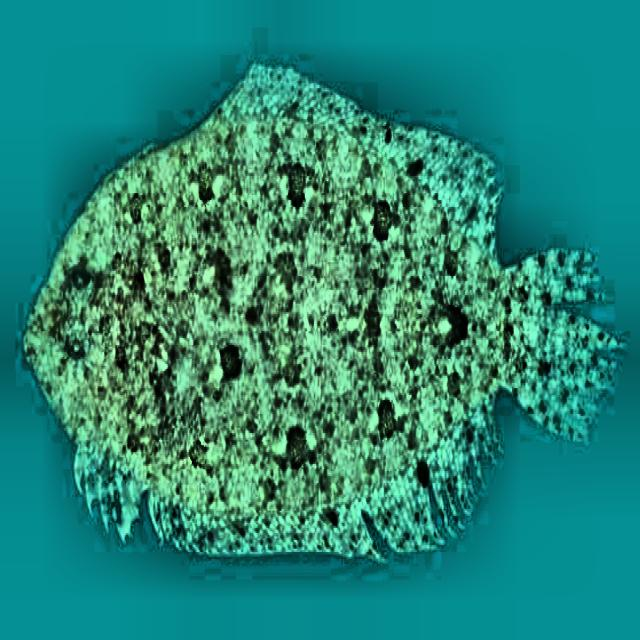fish: (23, 62, 629, 564)
